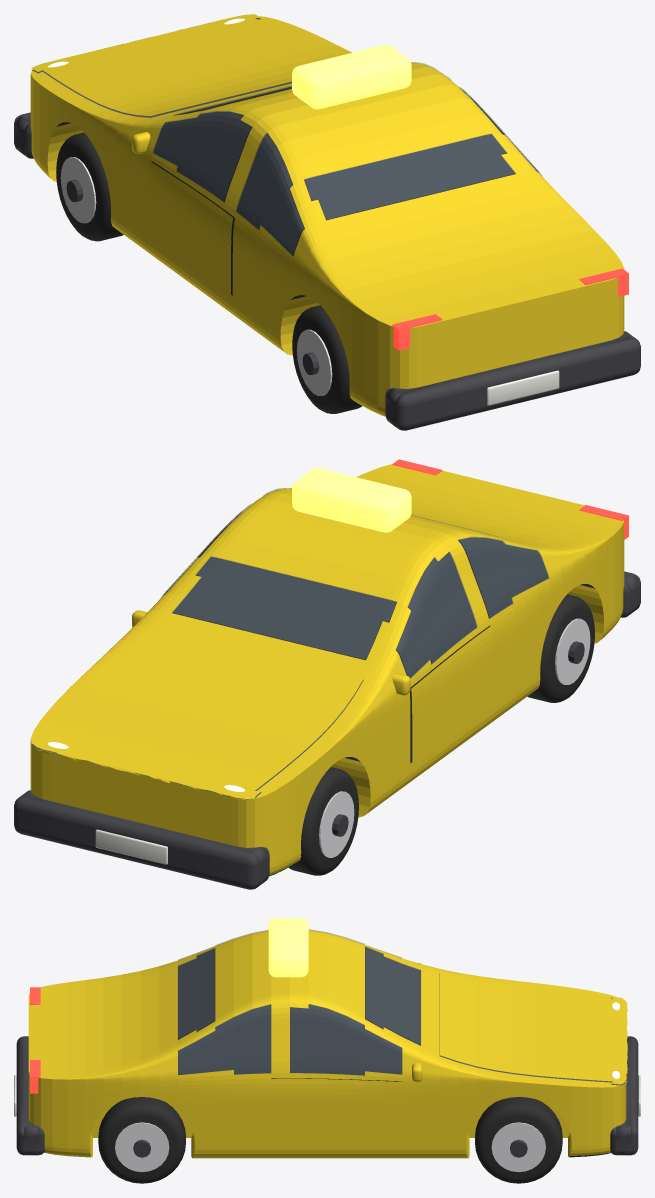
The model's file is car_sunny.glb.
The picture shows the model from 3 angles, top to bottom: view 1: azimuth 30°, elevation 25°; view 2: azimuth 150°, elevation 25°; view 3: azimuth 270°, elevation 25°; orthographic projection. The views are drawn at different scales.
Parts seen in each view (by area): view 1: body, hood, glass_l, bumper_r, glass_r, door_l, extra_sign, wheel_rl, wheel_fl, extra_plate_r, light_r, bumper_f; view 2: body, hood, glass_f, glass_l, bumper_f, door_l, extra_sign, wheel_fl, wheel_rl, extra_plate_f, light_r, bumper_r; view 3: body, hood, glass_r_side, door_r, wheel_rr, wheel_fr, glass_f, glass_r, extra_sign, bumper_r, bumper_f, light_r.
Part boxes in pixels (box(x1,y1,x2,y2)): body: box(30, 16, 624, 416); hood: box(31, 14, 338, 116); glass_l: box(152, 111, 304, 255); bumper_r: box(385, 331, 640, 430); glass_r: box(304, 133, 515, 219); door_l: box(149, 161, 232, 295); extra_sign: box(292, 45, 411, 109); wheel_rl: box(292, 305, 362, 413); wheel_fl: box(56, 132, 123, 241); extra_plate_r: box(487, 370, 559, 405); light_r: box(392, 268, 628, 350); bumper_f: box(14, 112, 33, 158); body: box(30, 464, 624, 876); hood: box(32, 626, 363, 799); glass_f: box(172, 556, 396, 659); glass_l: box(396, 536, 549, 678); bumper_f: box(14, 790, 269, 889); door_l: box(411, 625, 493, 763); extra_sign: box(292, 468, 411, 532); wheel_fl: box(288, 767, 358, 875); wheel_rl: box(527, 594, 594, 702); extra_plate_f: box(95, 829, 167, 864); light_r: box(392, 459, 628, 539); bumper_r: box(620, 571, 640, 617); body: box(28, 930, 626, 1158); hood: box(440, 972, 627, 1084); glass_r_side: box(178, 1004, 402, 1075); door_r: box(271, 1078, 402, 1141); wheel_rr: box(98, 1097, 185, 1183); wheel_fr: box(475, 1097, 562, 1183); glass_f: box(365, 946, 421, 1044); glass_r: box(177, 947, 214, 1038); extra_sign: box(268, 918, 308, 977); bumper_r: box(16, 1036, 44, 1155); bumper_f: box(610, 1036, 638, 1155); light_r: box(30, 987, 40, 1093).
Bounding box in the file's own units: 1.91 × 1.67 × 4.72.
